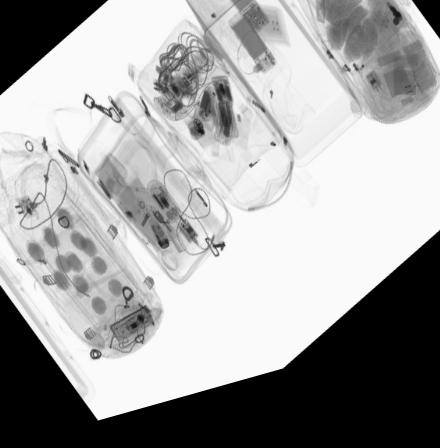Powerbank: (227, 24, 279, 89)
